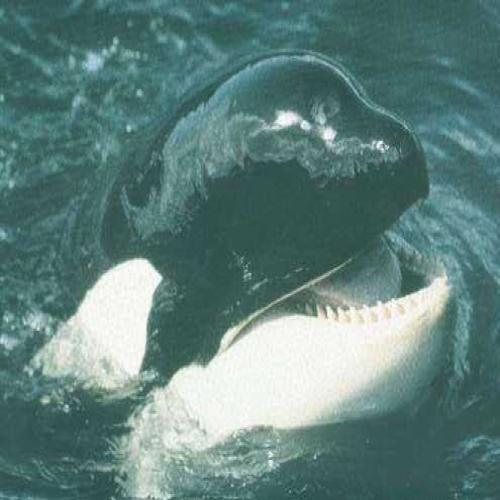killer_whale-endangered: (45, 42, 468, 458)
